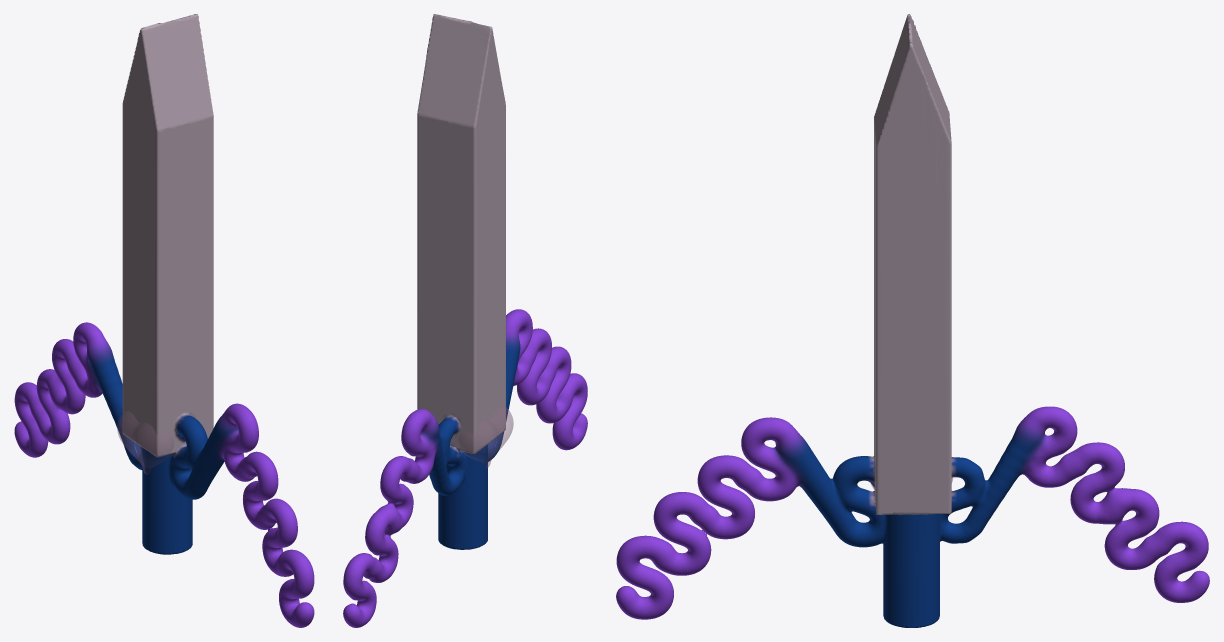
The picture shows the model from 3 angles, left to right: view 1: azimuth 30°, elevation 25°; view 2: azimuth 150°, elevation 25°; view 3: azimuth 270°, elevation 25°; orthographic projection. The views are drawn at different scales.
Parts seen in each view (by area): view 1: Area (3), Area (1); view 2: Area (3), Area (1); view 3: Area (3).
Part boxes in pixels (x1,y1,x2,y2): Area (3): [14, 14, 314, 627]; Area (1): [117, 411, 173, 474]; Area (3): [343, 14, 587, 627]; Area (1): [458, 406, 513, 468]; Area (3): [616, 14, 1209, 627].
Size of the model in its own units: 48.26 by 344 by 315.
2 materials, 2 textured.
